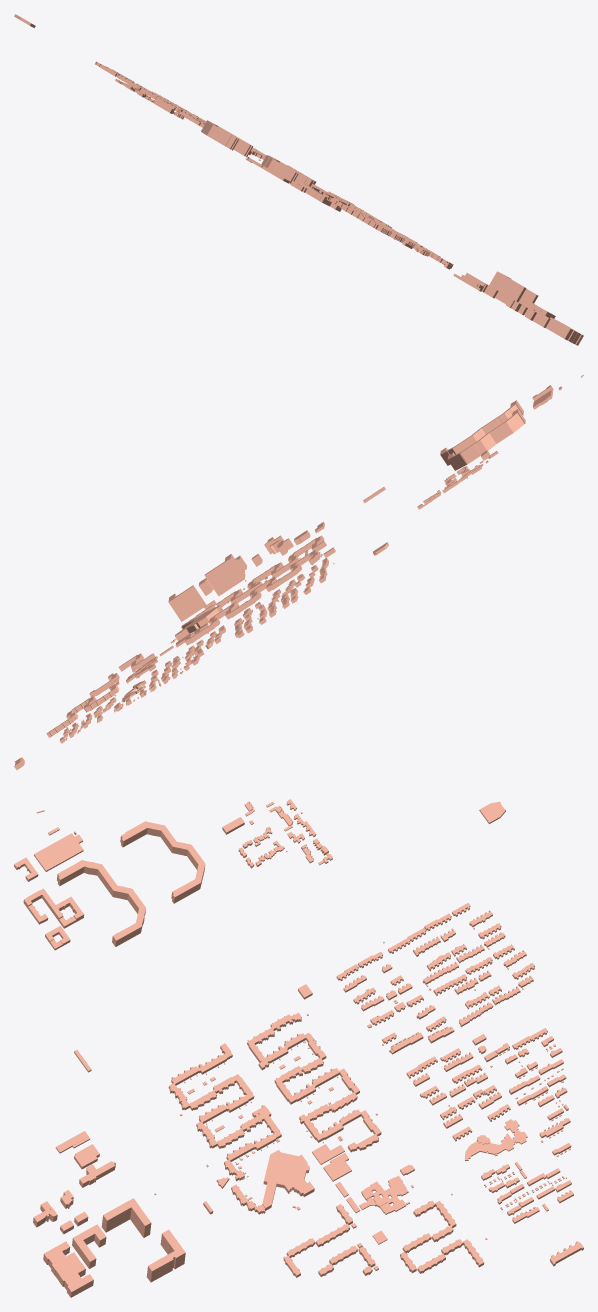
3 views of the same model, one above another, from view 1: azimuth 30°, elevation 25°; view 2: azimuth 150°, elevation 25°; view 3: azimuth 270°, elevation 25° (orthographic). The views are drawn at different scales.
Size of the model in its own units: 1052 by 758 by 1276.
